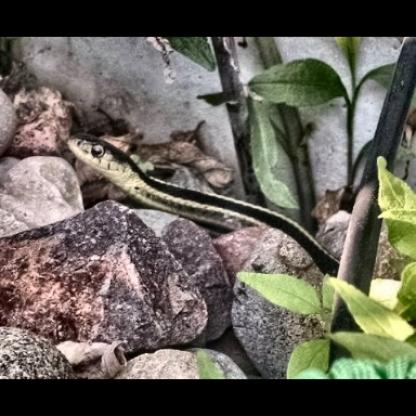Snake: (64, 130, 277, 242)
